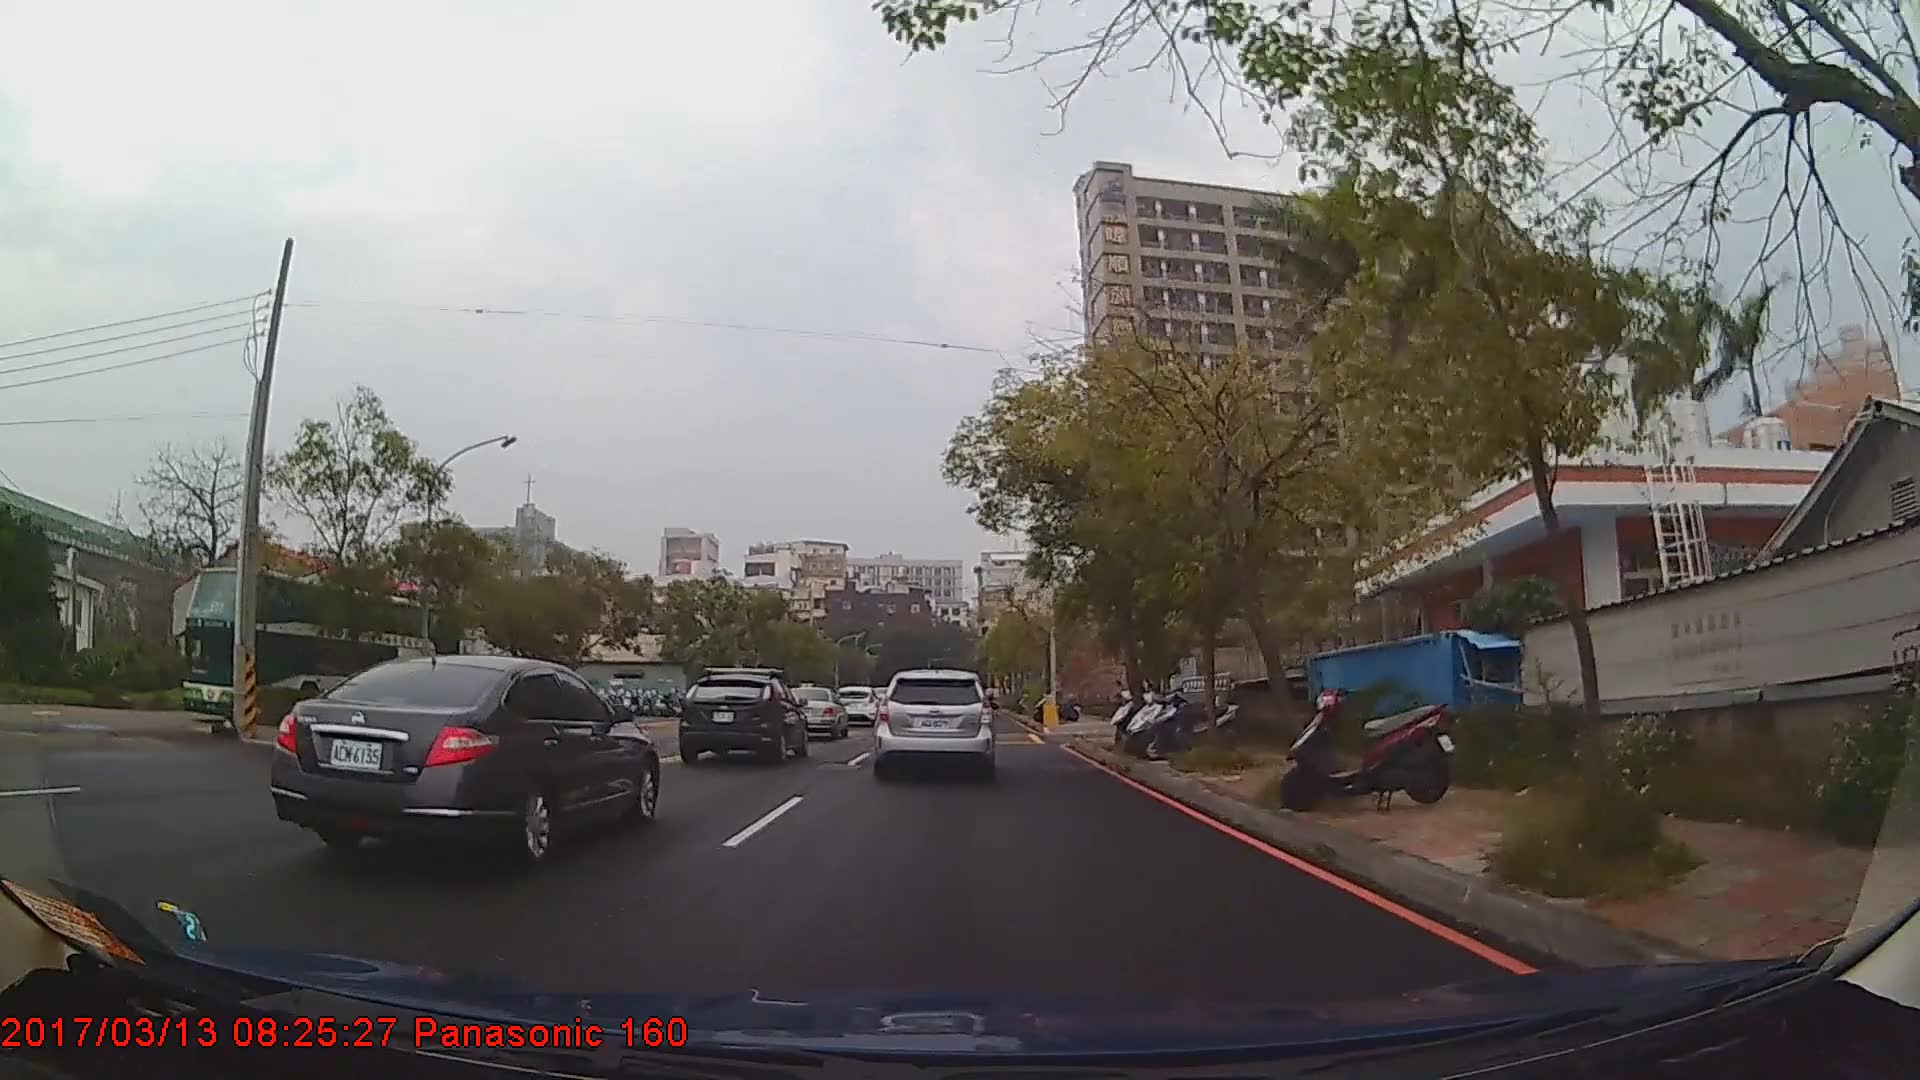vehicle: (269, 650, 662, 865), (179, 566, 434, 733), (876, 666, 994, 778), (676, 670, 808, 767), (783, 684, 847, 740), (833, 683, 880, 725)
